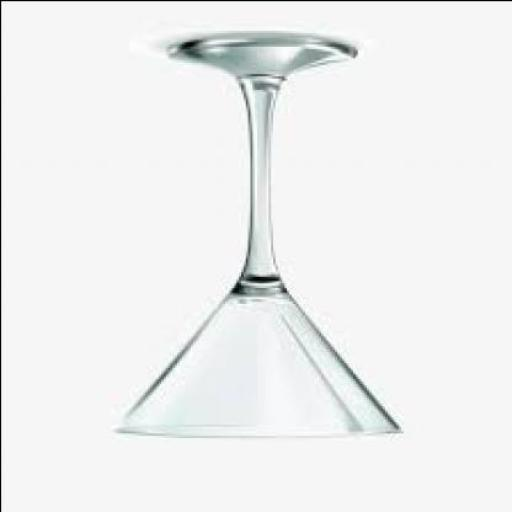glass: (116, 34, 404, 437)
